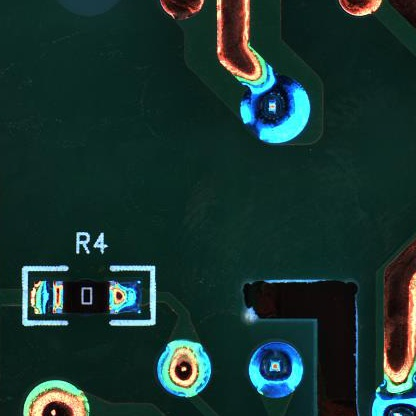spot: (241, 74, 313, 147), (150, 338, 219, 400), (246, 341, 304, 398)
